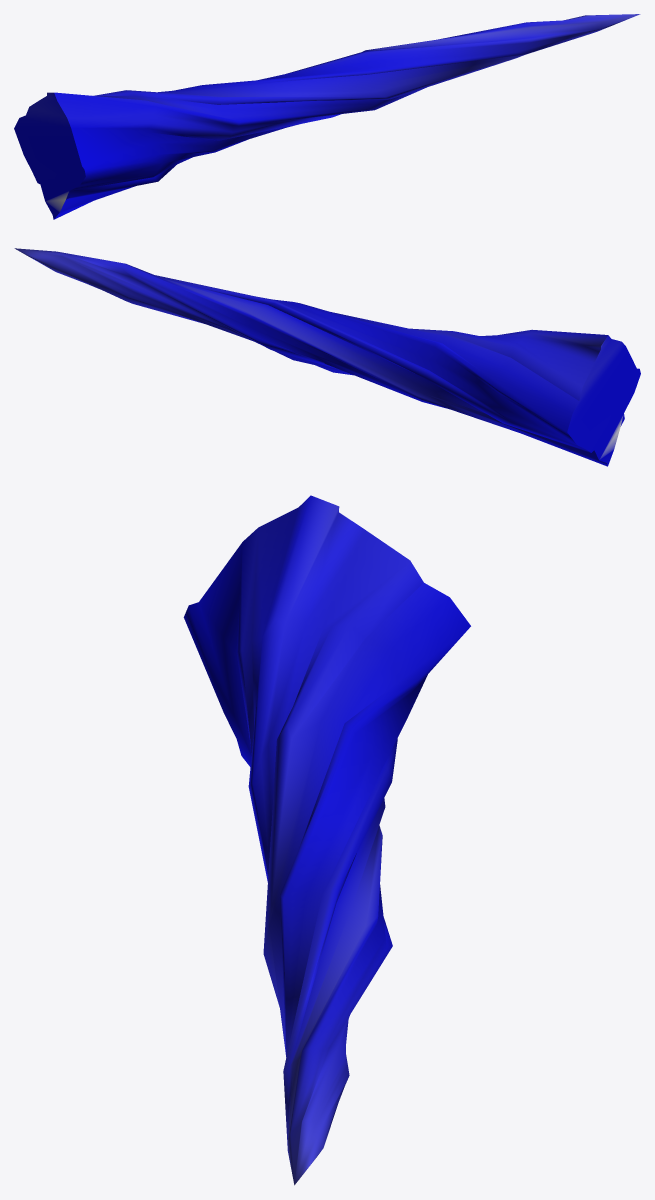
Rendered from BirowLog3.fbx.
The picture shows the model from 3 angles, top to bottom: view 1: azimuth 30°, elevation 25°; view 2: azimuth 150°, elevation 25°; view 3: azimuth 270°, elevation 25°; orthographic projection. The views are drawn at different scales.
Visible parts, largest first — view 1: Birow.Log_3_LOD0; view 2: Birow.Log_3_LOD0; view 3: Birow.Log_3_LOD0.
Part boxes in pixels (x1,y1,x2,y2): Birow.Log_3_LOD0: [14, 14, 640, 219]; Birow.Log_3_LOD0: [14, 248, 640, 466]; Birow.Log_3_LOD0: [183, 495, 470, 1185].
Size of what is drawn, in the model's own units: 387 by 81.15 by 82.71.
